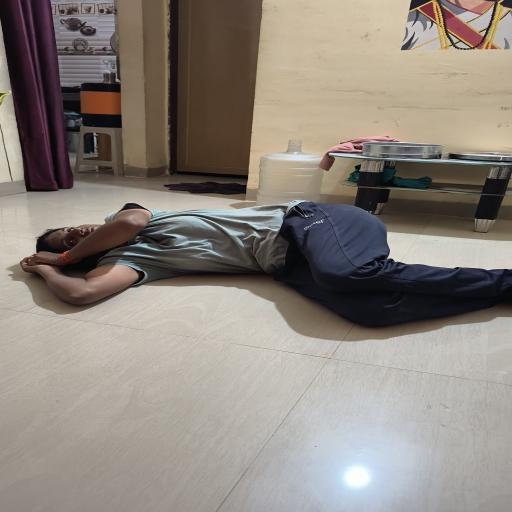survivor: (19, 200, 512, 328)
